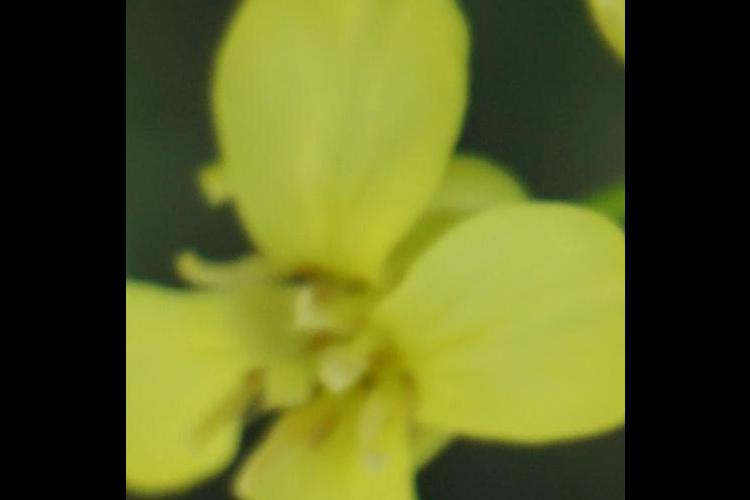yellow: (127, 1, 624, 500)
